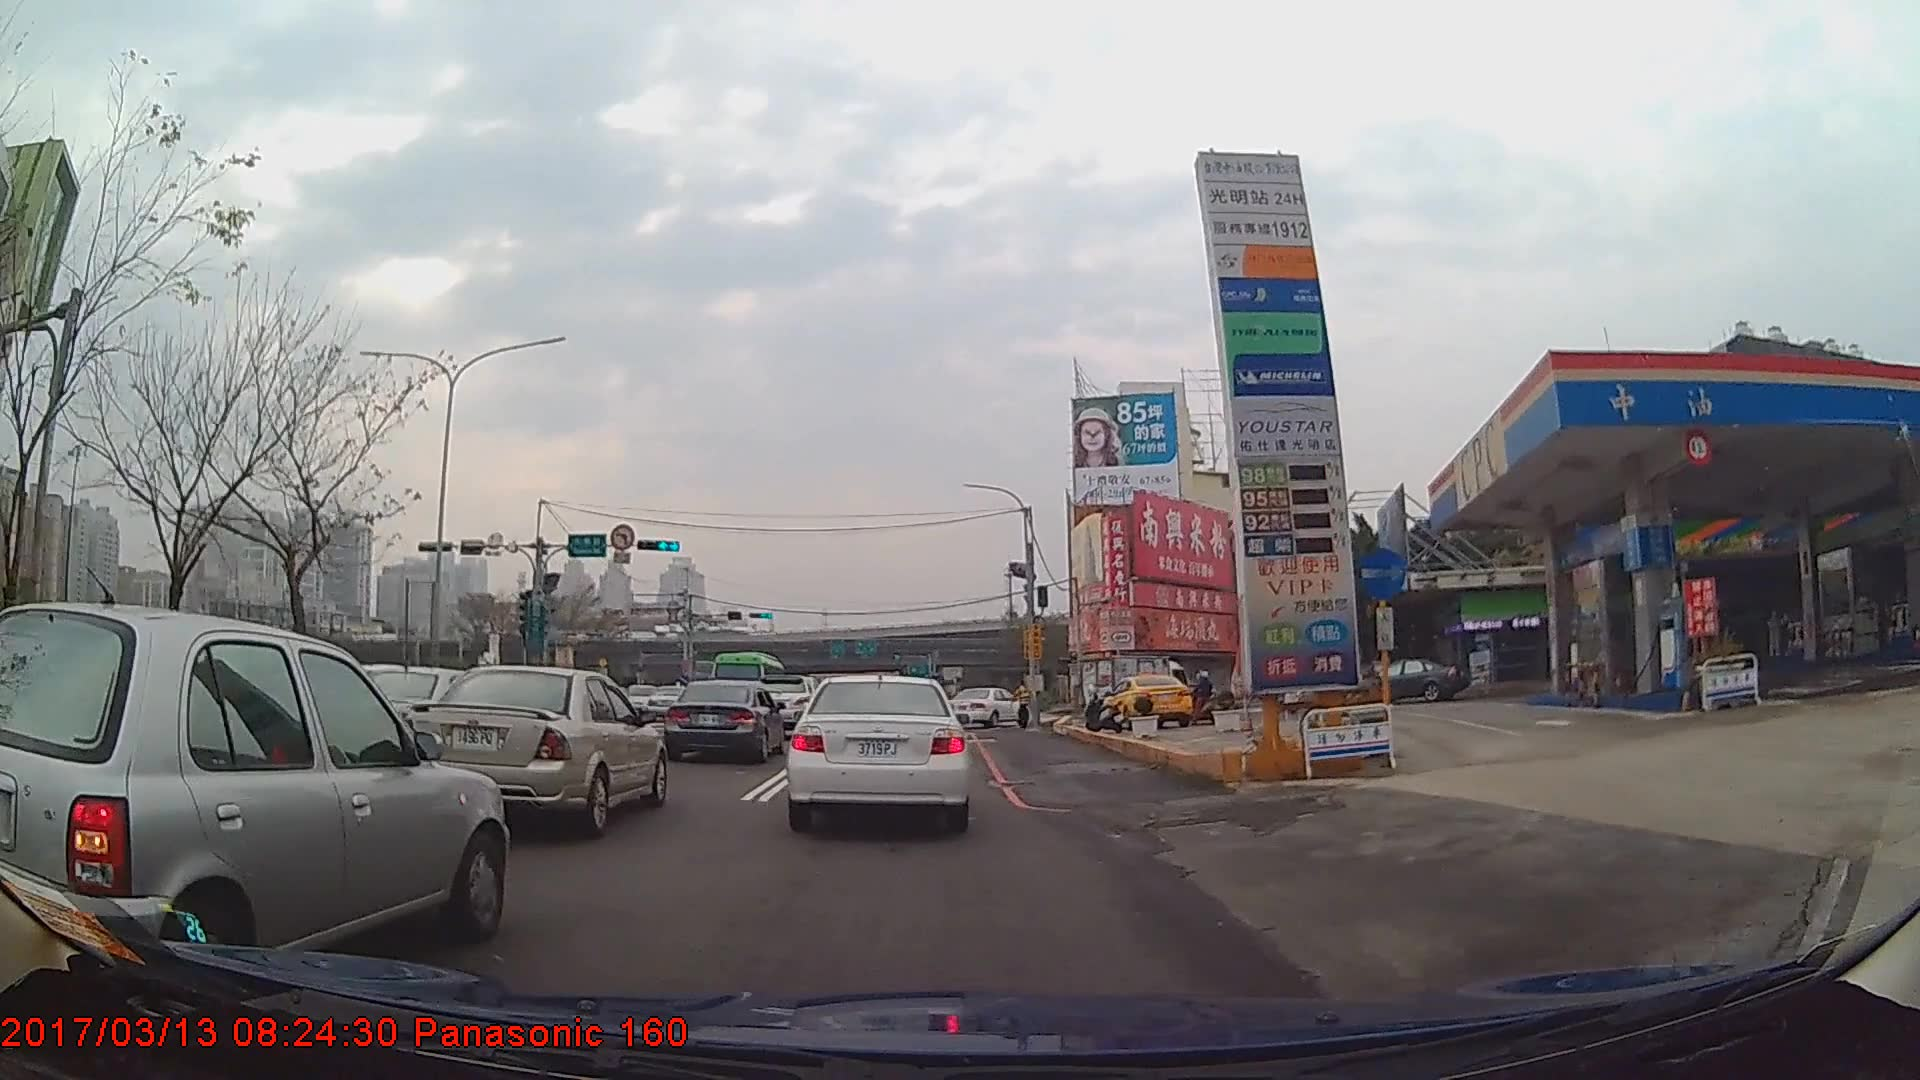rider: (1306, 661, 1344, 722), (1191, 671, 1226, 729)
vehicle: (0, 598, 508, 999), (403, 664, 669, 834), (791, 671, 967, 832), (660, 678, 788, 767), (1078, 653, 1190, 716), (1103, 673, 1194, 728), (709, 652, 788, 713), (1356, 659, 1468, 702), (948, 686, 1029, 730)
